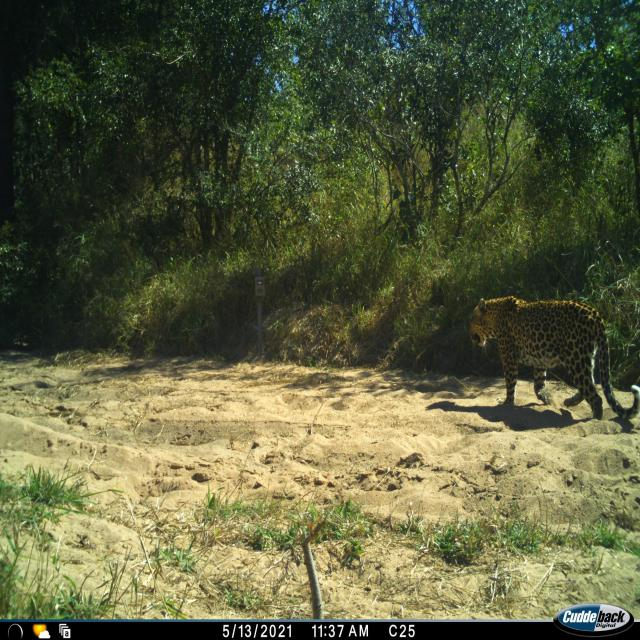Leopard: (464, 289, 634, 430)
